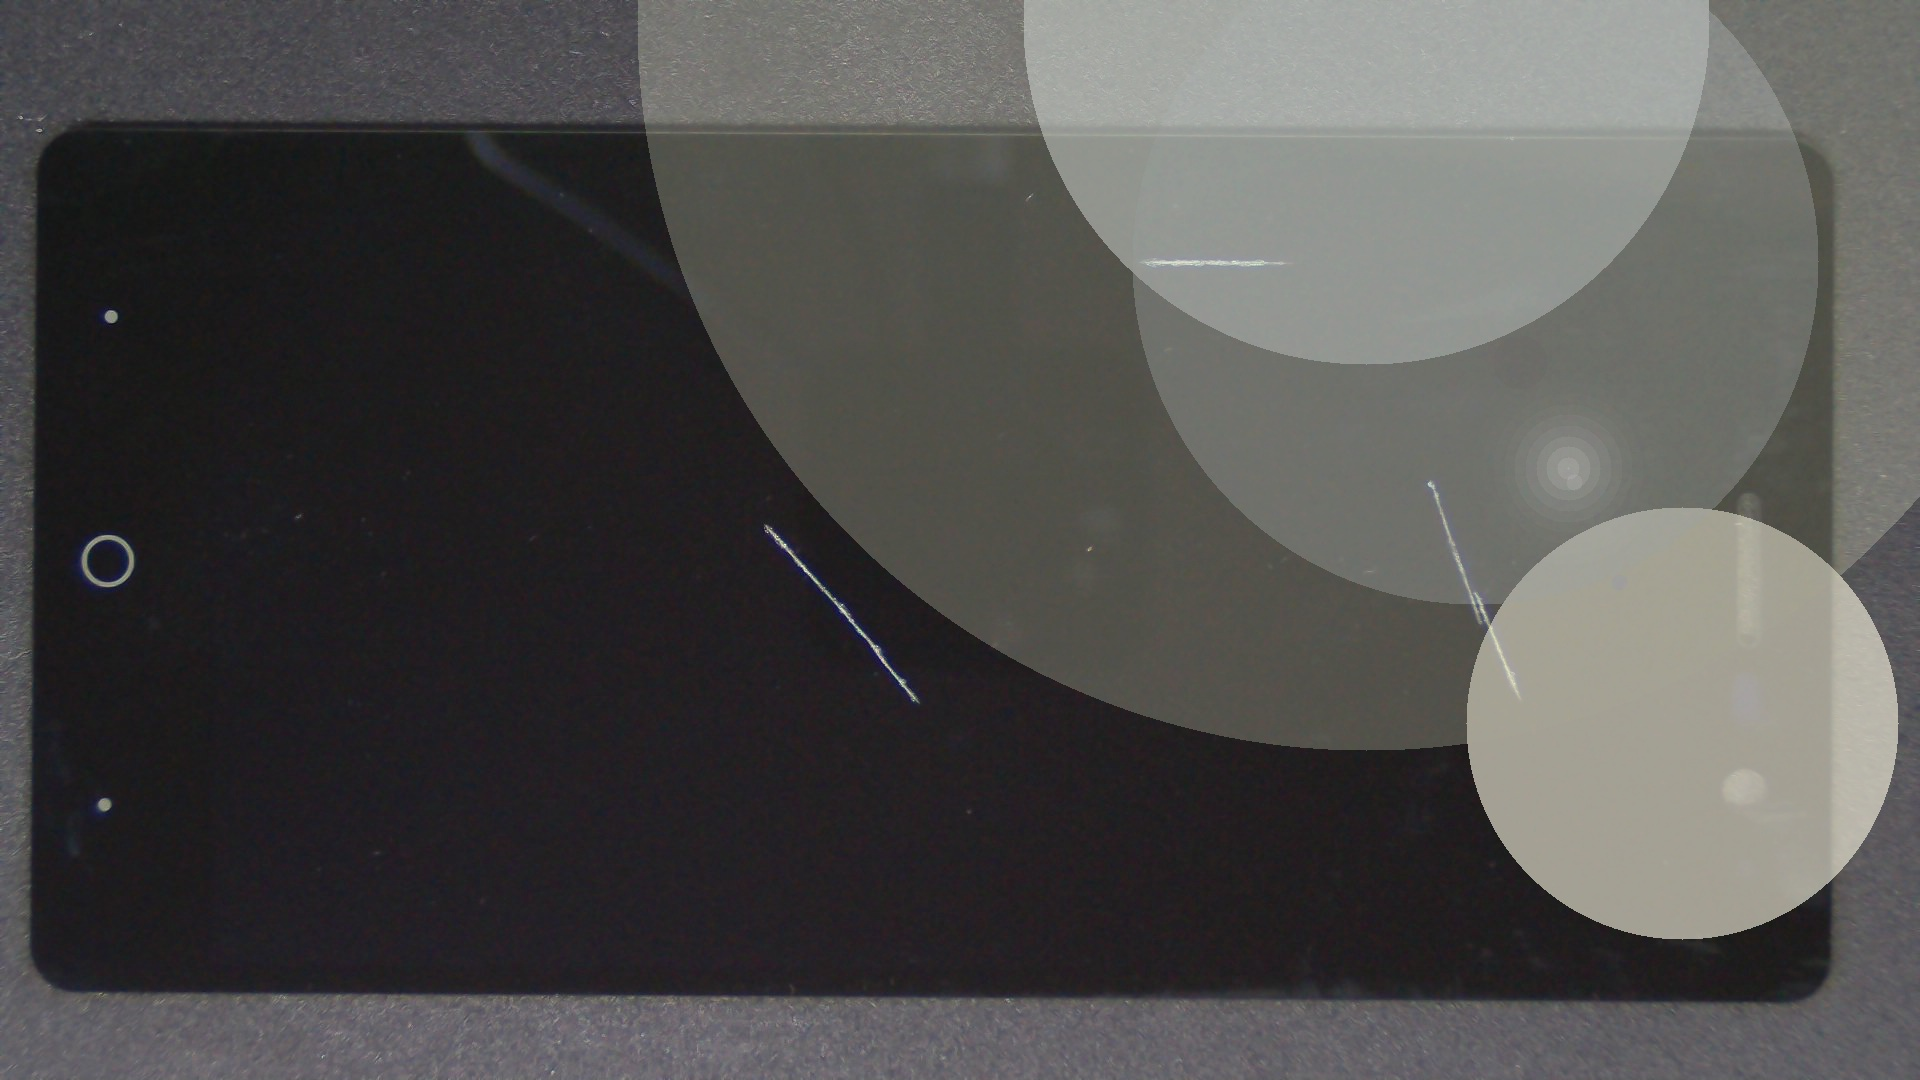oil: (716, 239, 1920, 719), (384, 260, 1146, 785), (575, 128, 1724, 386)
